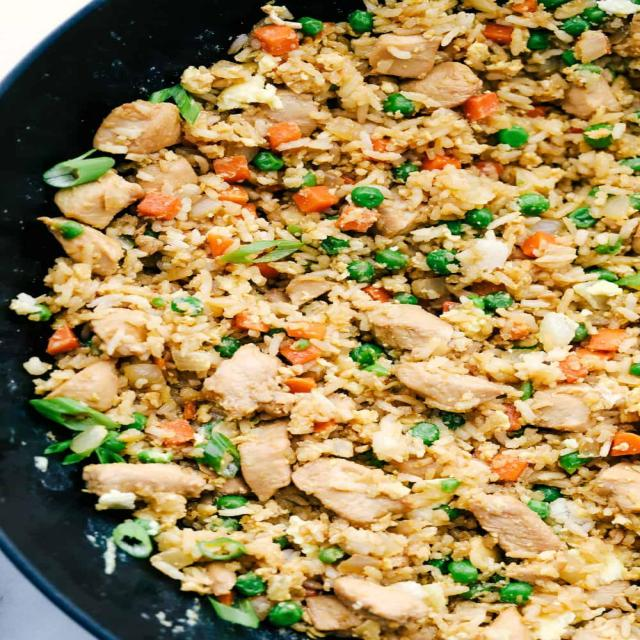Nasi Goreng: (17, 1, 638, 638)
